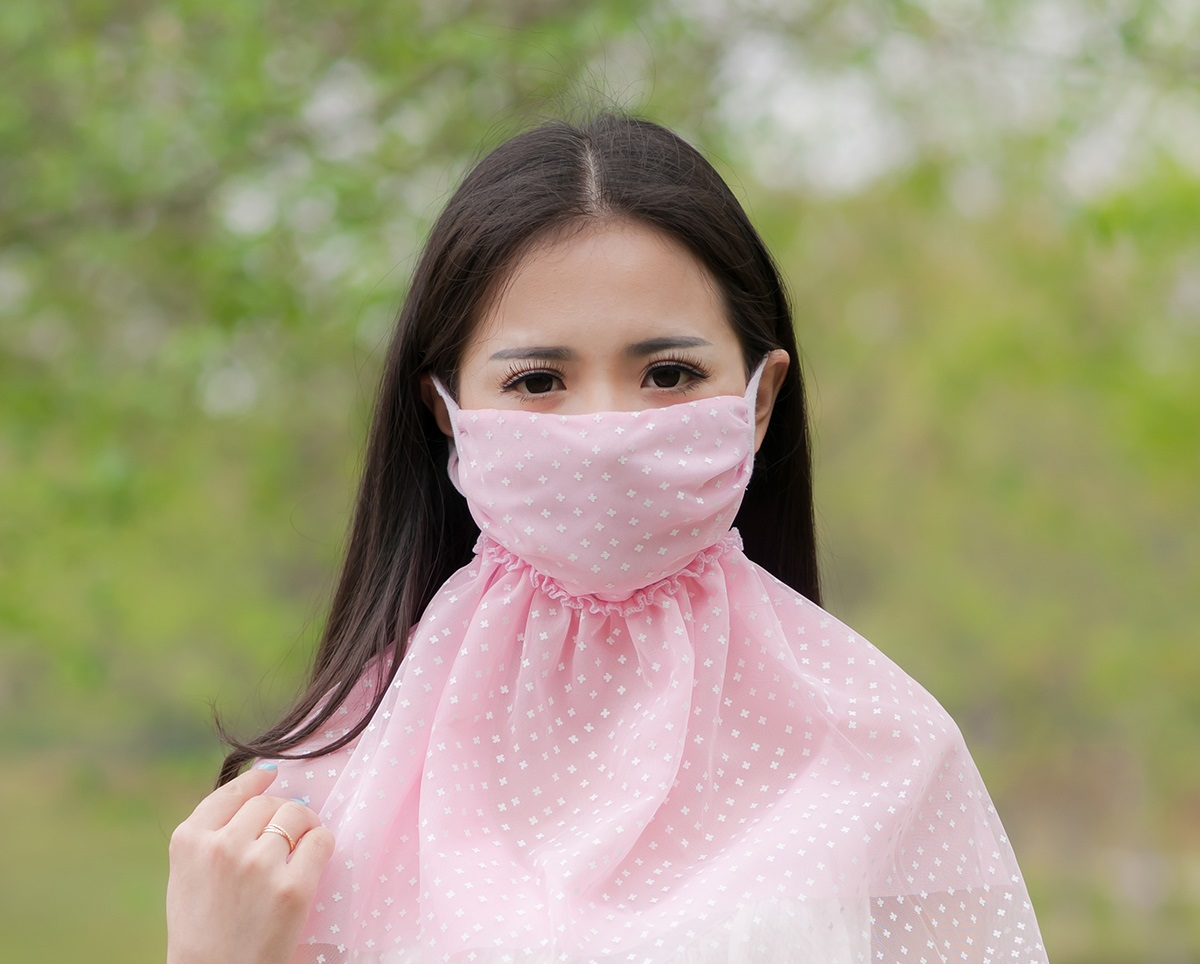face_mask: (452, 223, 756, 577)
